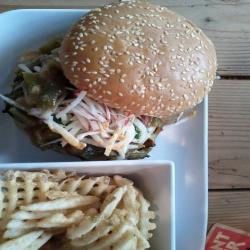burger: (15, 4, 203, 158)
fries: (9, 186, 140, 247)
